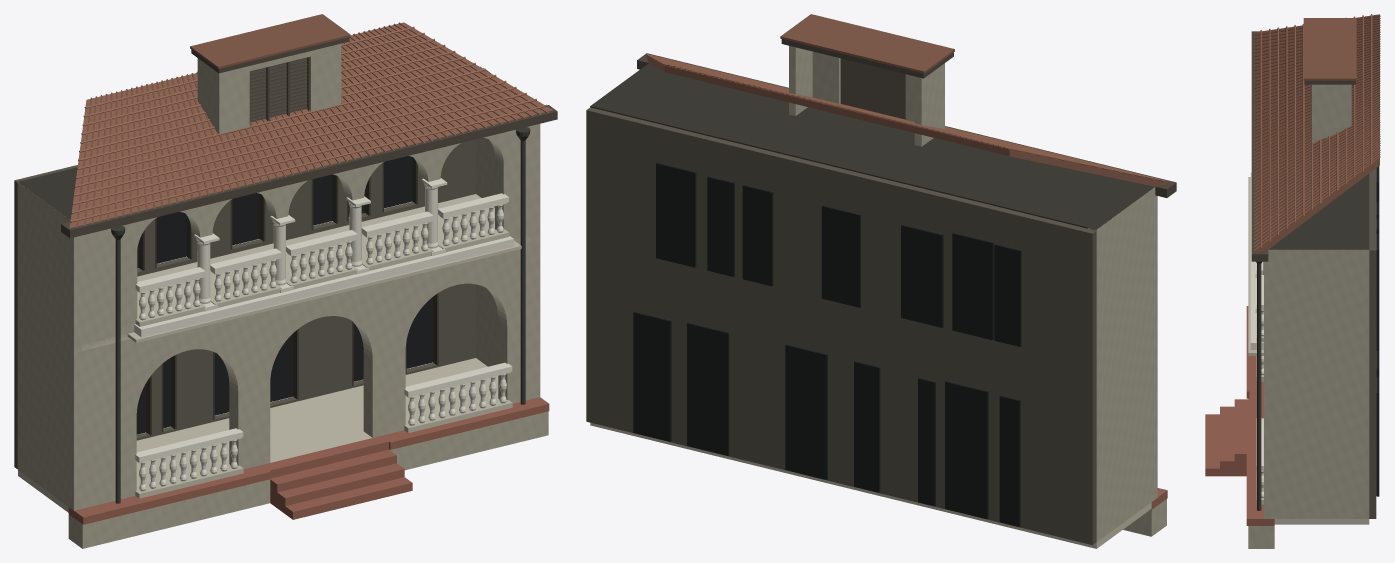
The model's file is xuhui-dongping-five-south-arcade-raw.glb.
3 views of the same model, side by side, from view 1: azimuth 30°, elevation 25°; view 2: azimuth 150°, elevation 25°; view 3: azimuth 270°, elevation 25° (orthographic). The views are drawn at different scales.
Parts seen in each view (by area): view 1: 东平路5号花园住宅南敞廊; view 2: 东平路5号花园住宅南敞廊; view 3: 东平路5号花园住宅南敞廊.
Boxes of the visible parts, <box> form: 东平路5号花园住宅南敞廊: <box>14,14,557,548</box>; 东平路5号花园住宅南敞廊: <box>586,14,1176,548</box>; 东平路5号花园住宅南敞廊: <box>1205,14,1380,548</box>.
Bounding box in the file's own units: 10.78 × 8.87 × 3.58.
Materials: 12 (1 with a texture image).
